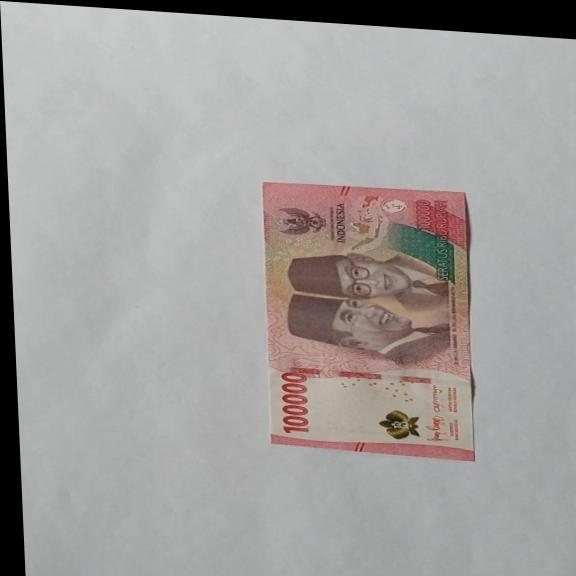Kertas: (257, 177, 479, 461), (277, 370, 311, 435)
